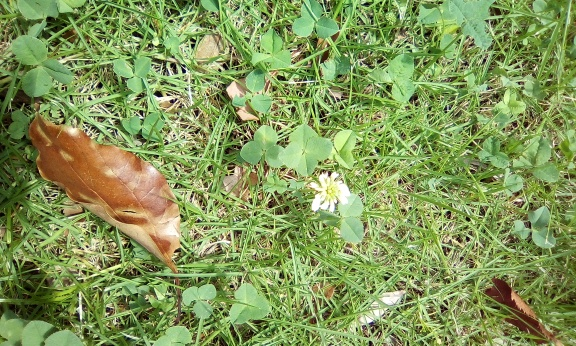4leaf: (276, 124, 333, 177)
